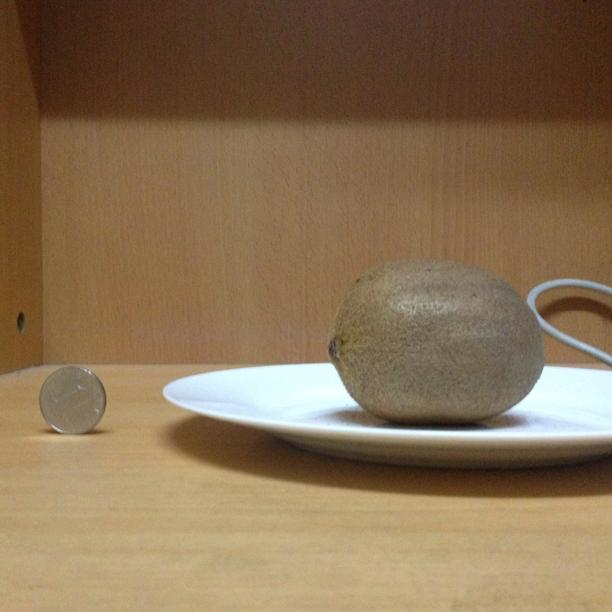coin: (37, 370, 105, 433)
qiwi: (570, 373, 612, 438)
